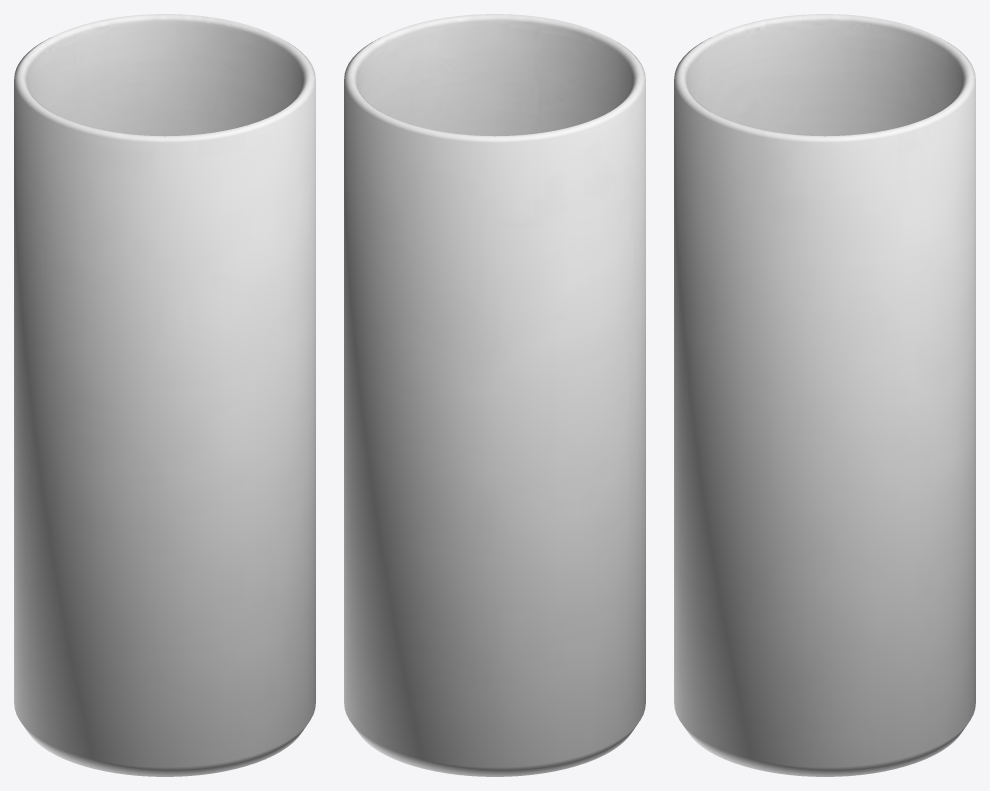
File: cylinder-black.glb
3 renders of one model, left to right at view 1: azimuth 30°, elevation 25°; view 2: azimuth 150°, elevation 25°; view 3: azimuth 270°, elevation 25°, orthographic.
Parts seen in each view (by area): view 1: ceramic_primary; view 2: ceramic_primary; view 3: ceramic_primary.
Boxes of the visible parts, x1,y1,x2,y2 form: ceramic_primary: (14,14,315,776); ceramic_primary: (344,14,645,776); ceramic_primary: (674,14,975,776).
Bounding box in the file's own units: 0.12 × 0.2817 × 0.12.
1 material, 1 textured.
